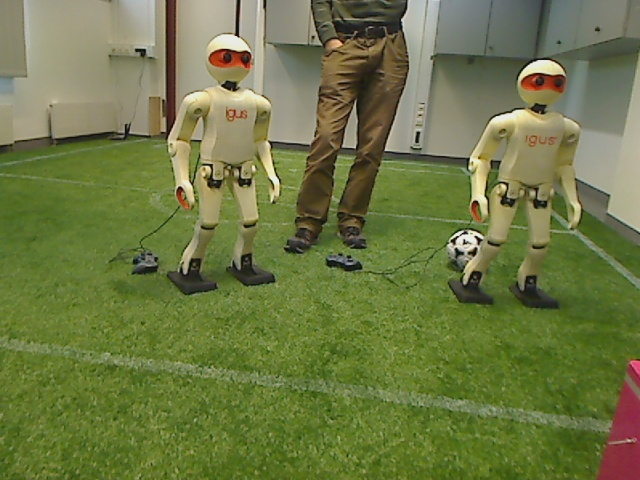ball: (443, 226, 491, 271)
robot: (459, 57, 584, 313), (166, 31, 286, 297)
